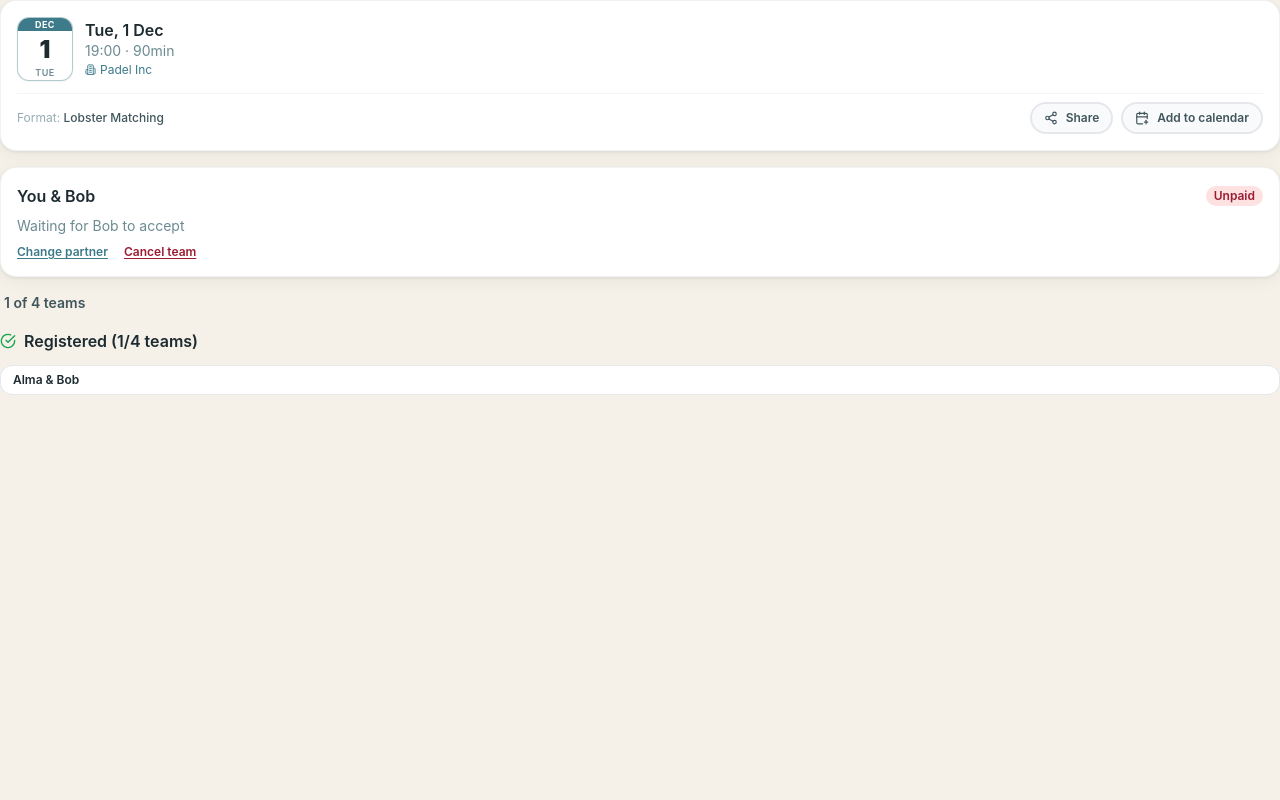
Test: team lists and card › lets the captain change partner and shows the message inline
Click the button "Change partner": (62, 252) [17, 244, 108, 260]
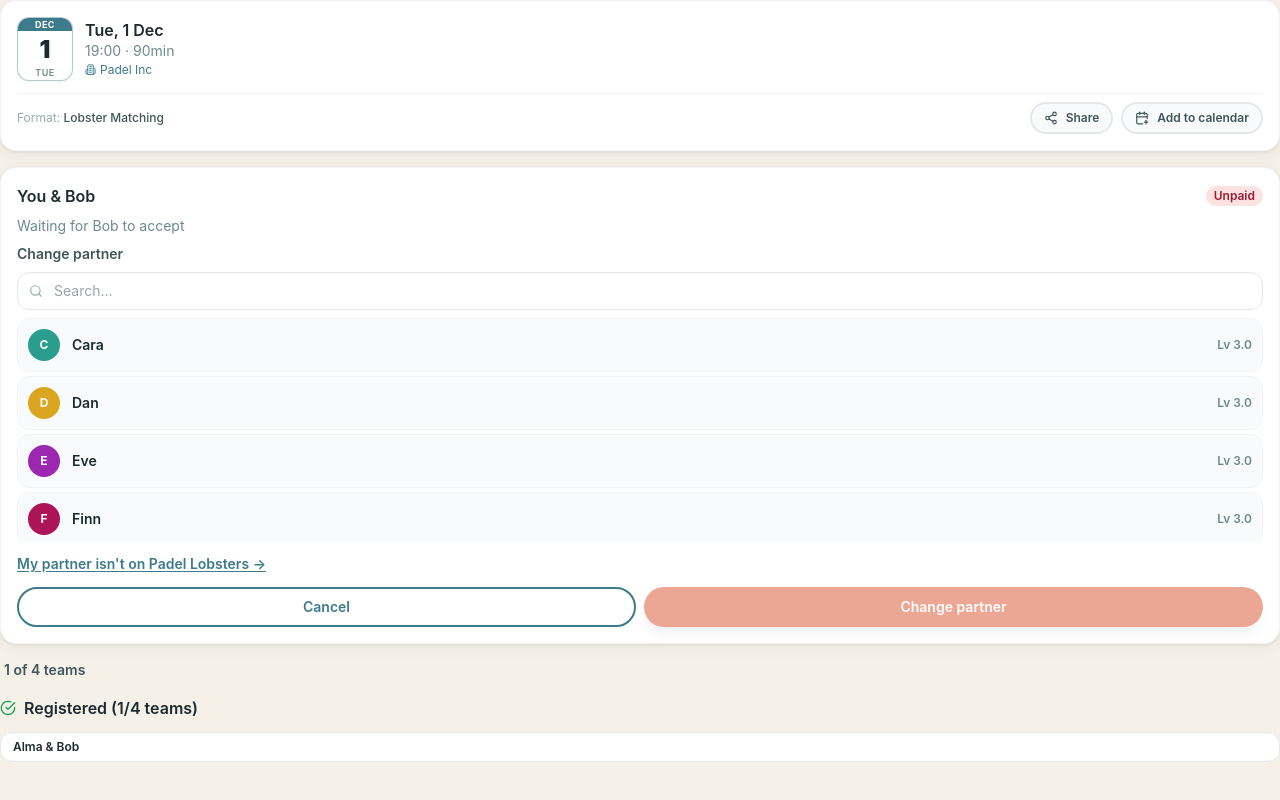
Click the button "E Eve Lv 3.0": (44, 461) [18, 435, 1262, 487]
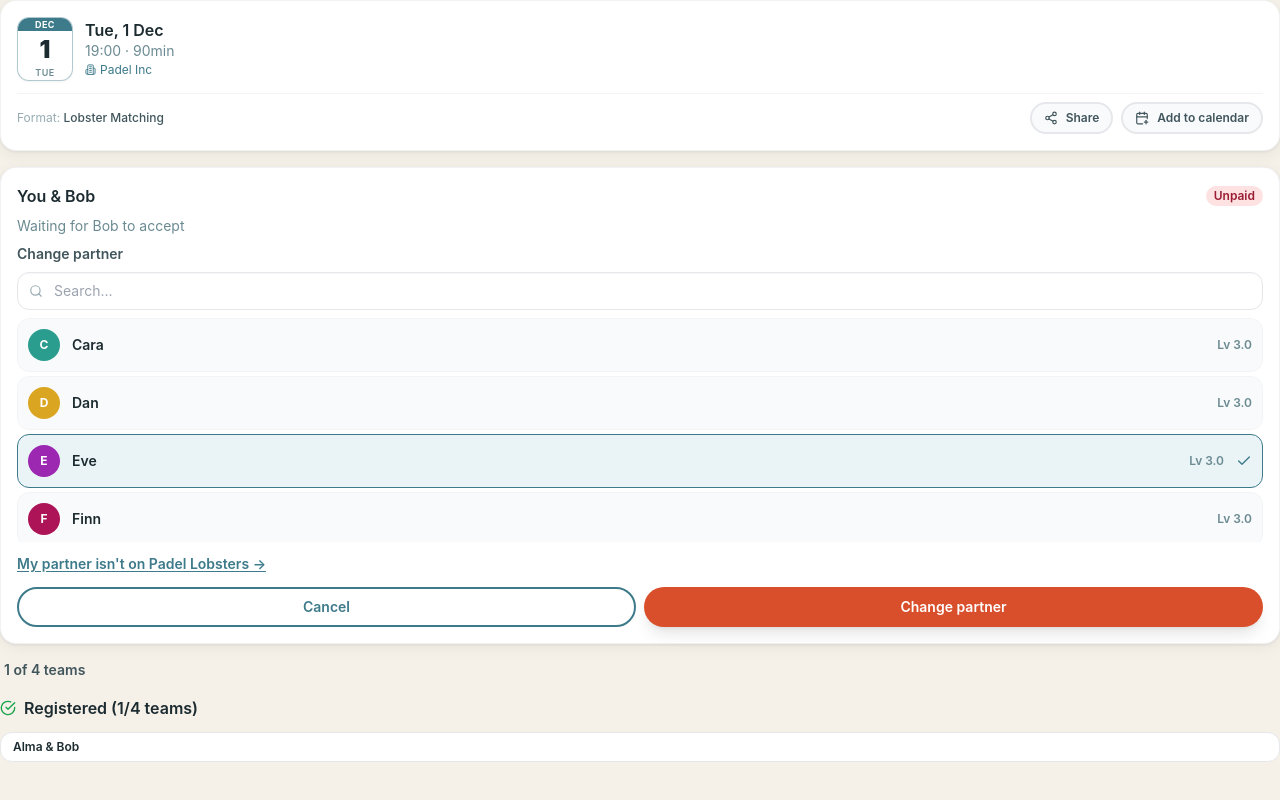
Click the button "Change partner": (954, 607) [644, 587, 1263, 627]
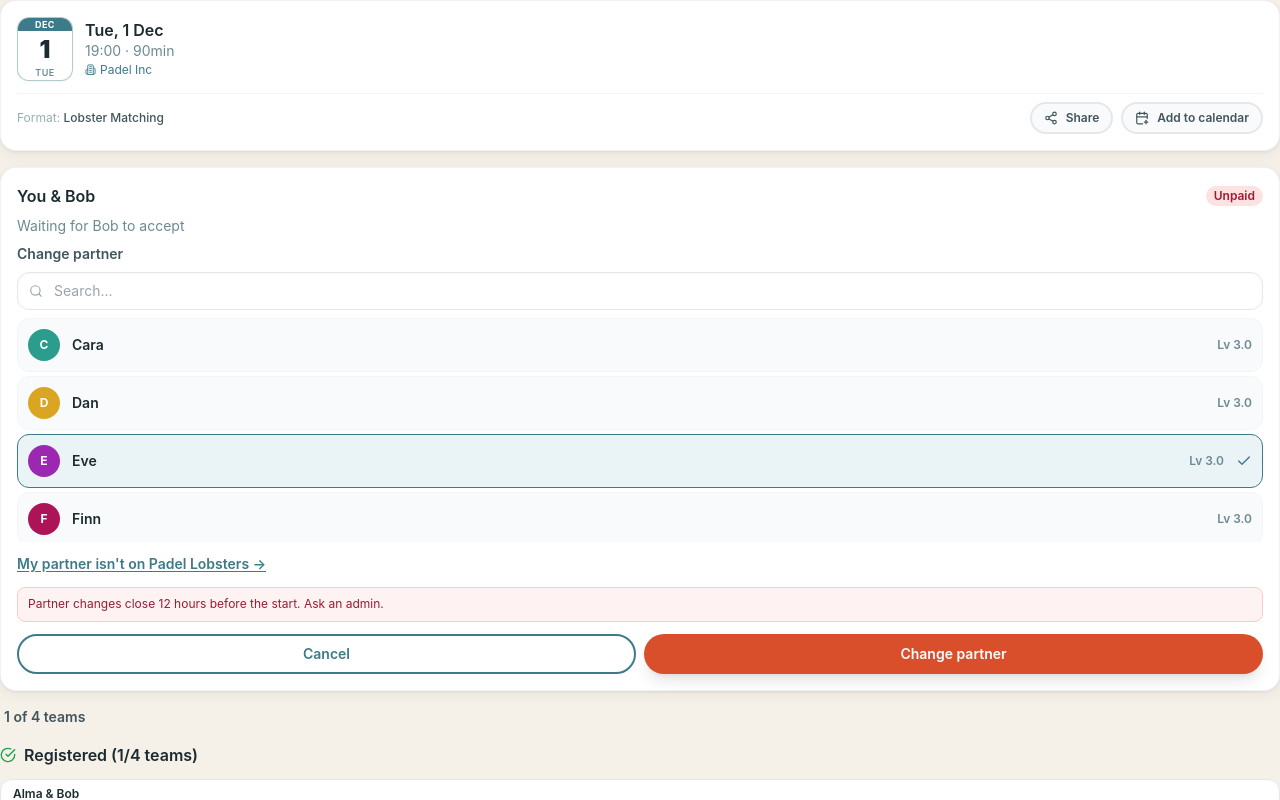
Result: the message shows "close 12 hours" at [28, 596, 384, 611]
